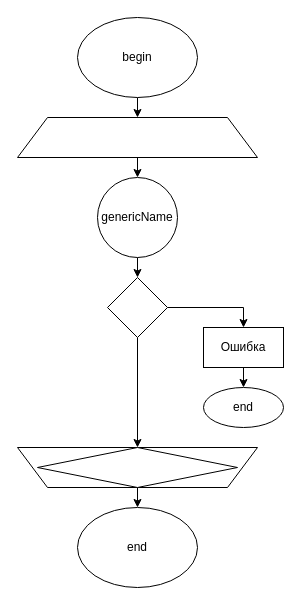
Image size: 301x605. Some labels were removed from this diagram. The shapes that lost their labels are listed below. From the top down, each one's centre as x and y in pixels, then its label:
the point at 137,307: Ошибка?
the point at 137,467: след слово "&&"
